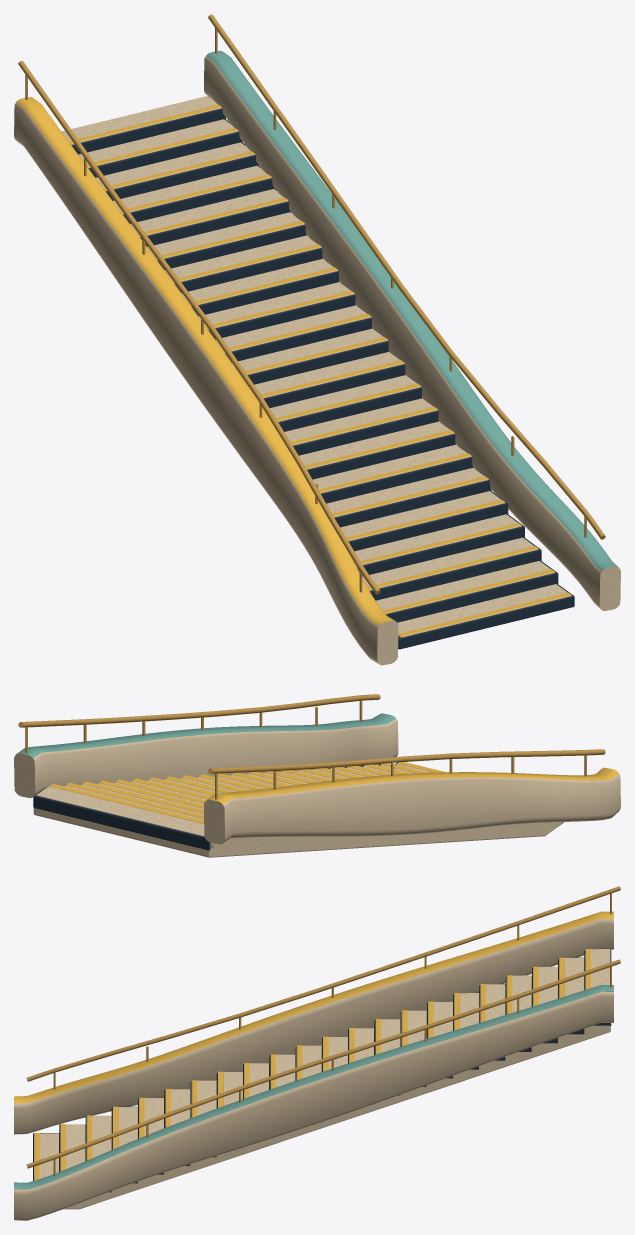
The model's file is main-stair.glb.
3 renders of one model, top to bottom at view 1: azimuth 30°, elevation 25°; view 2: azimuth 150°, elevation 25°; view 3: azimuth 270°, elevation 25°, orthographic. The views are drawn at different scales.
Parts seen in each view (by area): view 1: Main stair curved side 1, Main stair curved side -1, Main stair handrail 1, Main stair handrail -1, Main stair tread surface 1, Main stair tread surface 0, Main stair tread surface 2, Main stair tread surface 3, Main stair tread 0, Main stair tread surface 4, Main stair tread surface 5, Main stair tread surface 6 (+36 smaller); view 2: Main stair curved side -1, Main stair curved side 1, Main stair structural soffit, Main stair handrail -1, Main stair tread 21, Main stair handrail 1, Main stair tread surface 21, Main stair nosing 21, Main stair nosing 20, Main stair nosing 19, Main stair nosing 18, Main stair nosing 17 (+6 smaller); view 3: Main stair curved side 1, Main stair curved side -1, Main stair structural soffit, Main stair handrail 1, Main stair handrail -1, Main stair tread surface 0, Main stair tread surface 1, Main stair tread surface 2, Main stair tread surface 3, Main stair tread surface 21, Main stair tread surface 20, Main stair tread surface 19 (+15 smaller).
Part boxes in pixels (x1=…): Main stair curved side 1: x1=204, y1=50, x2=620, y2=611; Main stair curved side -1: x1=14, y1=97, x2=398, y2=665; Main stair handrail 1: x1=208, y1=14, x2=605, y2=539; Main stair handrail -1: x1=18, y1=60, x2=380, y2=594; Main stair tread surface 1: x1=376, y1=561, x2=555, y2=614; Main stair tread surface 0: x1=397, y1=584, x2=571, y2=637; Main stair tread surface 2: x1=362, y1=537, x2=538, y2=590; Main stair tread surface 3: x1=354, y1=514, x2=521, y2=565; Main stair tread 0: x1=398, y1=584, x2=574, y2=649; Main stair tread surface 4: x1=340, y1=491, x2=505, y2=541; Main stair tread surface 5: x1=326, y1=468, x2=488, y2=517; Main stair tread surface 6: x1=313, y1=444, x2=471, y2=493; Main stair curved side -1: x1=204, y1=767, x2=620, y2=844; Main stair curved side 1: x1=14, y1=713, x2=398, y2=798; Main stair structural soffit: x1=33, y1=808, x2=563, y2=857; Main stair handrail -1: x1=208, y1=749, x2=605, y2=773; Main stair tread 21: x1=33, y1=791, x2=213, y2=850; Main stair handrail 1: x1=18, y1=694, x2=380, y2=727; Main stair tread surface 21: x1=36, y1=786, x2=204, y2=836; Main stair nosing 21: x1=50, y1=783, x2=203, y2=823; Main stair nosing 20: x1=66, y1=782, x2=203, y2=818; Main stair nosing 19: x1=83, y1=781, x2=203, y2=813; Main stair nosing 18: x1=100, y1=780, x2=203, y2=808; Main stair nosing 17: x1=116, y1=779, x2=205, y2=803; Main stair curved side 1: x1=14, y1=985, x2=613, y2=1220; Main stair curved side -1: x1=14, y1=911, x2=613, y2=1134; Main stair structural soffit: x1=63, y1=1025, x2=610, y2=1209; Main stair handrail 1: x1=26, y1=959, x2=620, y2=1168; Main stair handrail -1: x1=26, y1=886, x2=620, y2=1081; Main stair tread surface 0: x1=34, y1=1133, x2=58, y2=1180; Main stair tread surface 1: x1=60, y1=1124, x2=85, y2=1171; Main stair tread surface 2: x1=86, y1=1115, x2=111, y2=1160; Main stair tread surface 3: x1=112, y1=1107, x2=137, y2=1149; Main stair tread surface 21: x1=585, y1=949, x2=610, y2=989; Main stair tread surface 20: x1=559, y1=958, x2=584, y2=998; Main stair tread surface 19: x1=533, y1=966, x2=557, y2=1006.
Bounding box in the file's own units: 3.71 × 4.59 × 9.98.
Materials: 5 (1 with a texture image).
